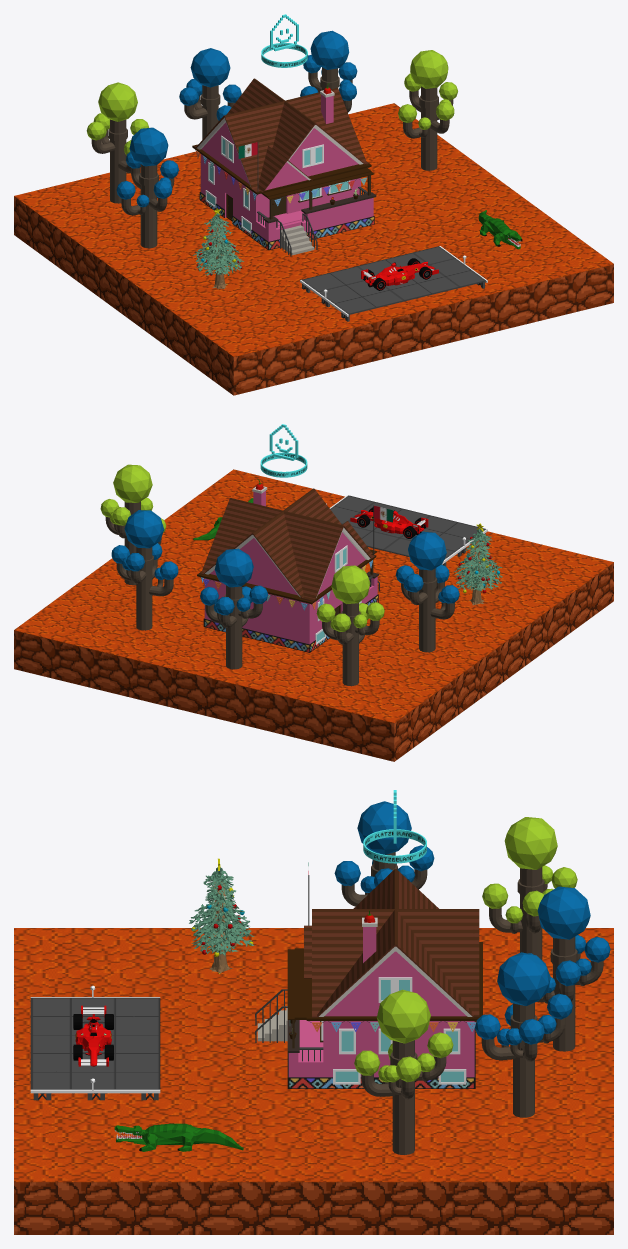
The picture shows the model from 3 angles, top to bottom: view 1: azimuth 30°, elevation 25°; view 2: azimuth 150°, elevation 25°; view 3: azimuth 270°, elevation 25°; orthographic projection. The views are drawn at different scales.
Visible parts, largest first — view 1: Cube.001, Cube.1005, OBJRANDOM_CHRISTMAS_TREE, VEHICLES_FORMULA_1, TYPE_PREMIUM, ANIMAL_COCODRILO; view 2: Cube.001, Cube.1005, OBJRANDOM_CHRISTMAS_TREE, VEHICLES_FORMULA_1, TYPE_PREMIUM; view 3: Cube.001, Cube.1005, OBJRANDOM_CHRISTMAS_TREE, ANIMAL_COCODRILO, VEHICLES_FORMULA_1, TYPE_PREMIUM.
Part boxes in pixels (box(x1,y1,x2,y2)): Cube.001: box(14, 30, 613, 395); Cube.1005: box(192, 78, 376, 256); OBJRANDOM_CHRISTMAS_TREE: box(192, 208, 243, 288); VEHICLES_FORMULA_1: box(361, 258, 438, 290); TYPE_PREMIUM: box(261, 14, 307, 67); ANIMAL_COCODRILO: box(478, 210, 522, 249); Cube.001: box(14, 464, 613, 761); Cube.1005: box(197, 479, 392, 652); OBJRANDOM_CHRISTMAS_TREE: box(454, 523, 502, 605); VEHICLES_FORMULA_1: box(350, 507, 428, 538); TYPE_PREMIUM: box(260, 424, 307, 477); Cube.001: box(14, 801, 613, 1234); Cube.1005: box(255, 862, 482, 1088); OBJRANDOM_CHRISTMAS_TREE: box(189, 858, 254, 973); ANIMAL_COCODRILO: box(114, 1123, 243, 1151); VEHICLES_FORMULA_1: box(73, 1005, 113, 1066); TYPE_PREMIUM: box(363, 790, 426, 863).
Size of the model in its own units: 4000 by 2410 by 4000.
Materials: 79 (7 with a texture image).
